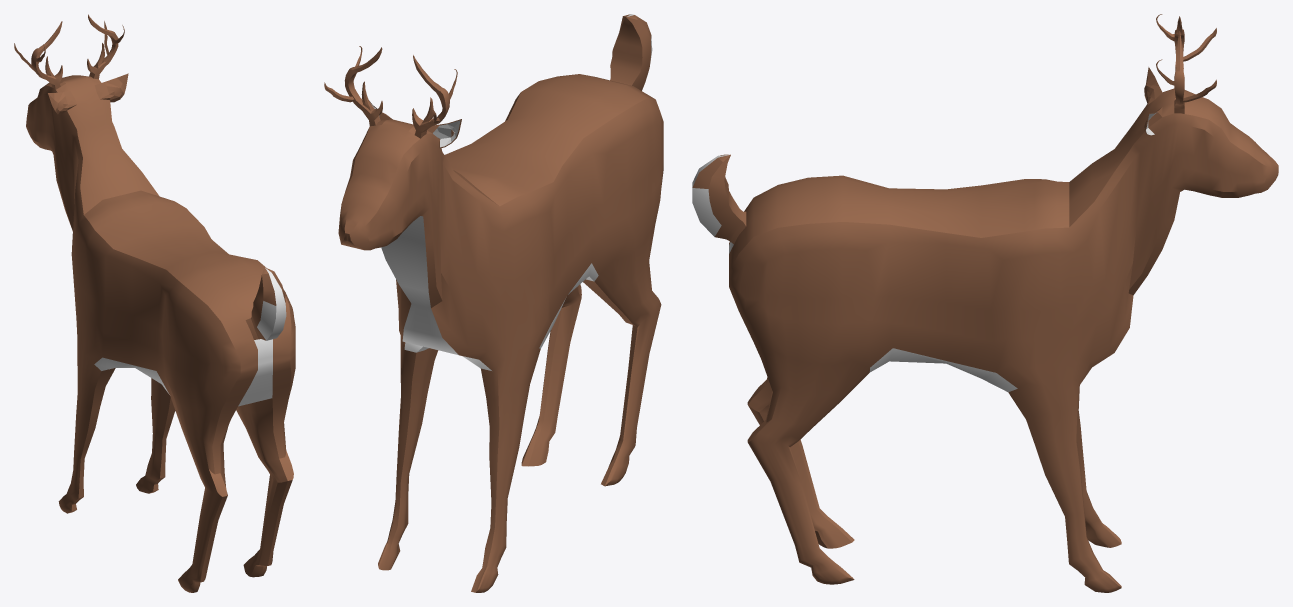
The model's file is biodiversite-biche.glb.
3 views of the same model, side by side, from view 1: azimuth 30°, elevation 25°; view 2: azimuth 150°, elevation 25°; view 3: azimuth 270°, elevation 25° (orthographic). The views are drawn at different scales.
Parts seen in each view (by area): view 1: Plane; view 2: Plane; view 3: Plane.
Boxes of the visible parts, <box> form: Plane: <box>14,14,295,592</box>; Plane: <box>324,14,663,592</box>; Plane: <box>692,14,1278,592</box>.
Bounding box in the file's own units: 0.9513 × 4 × 3.9.
